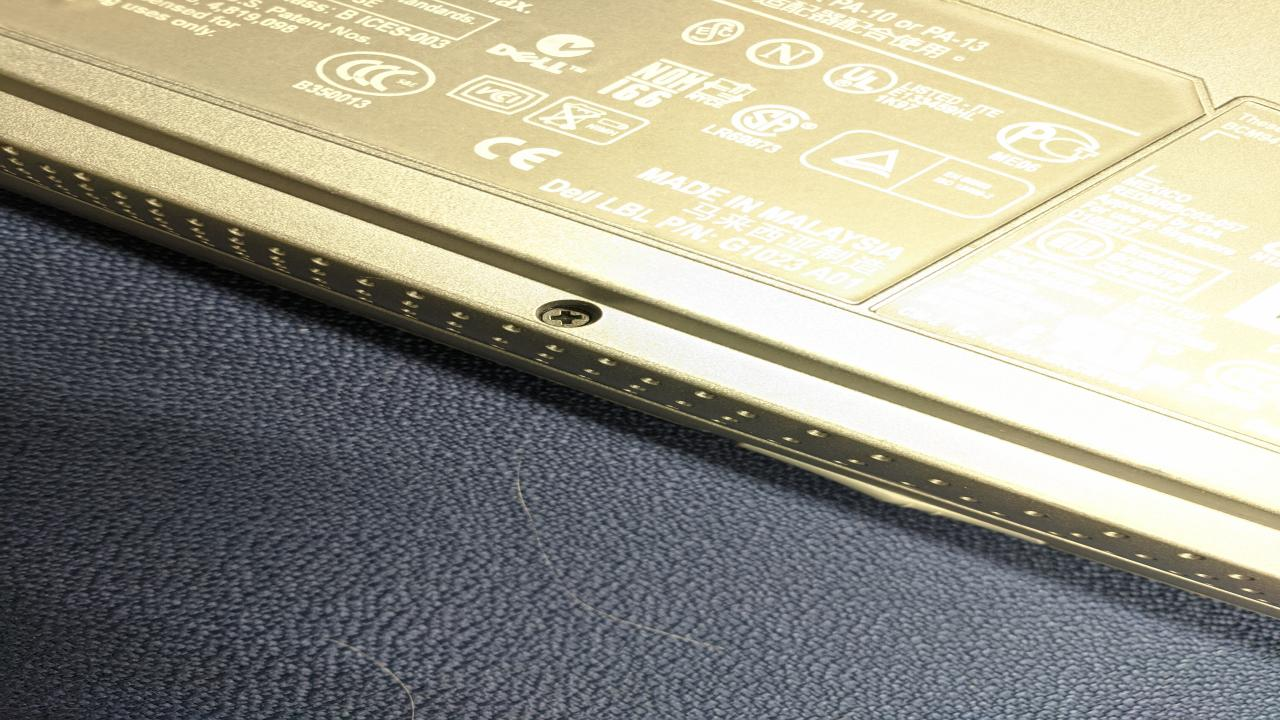CRS: (540, 302, 602, 329)
